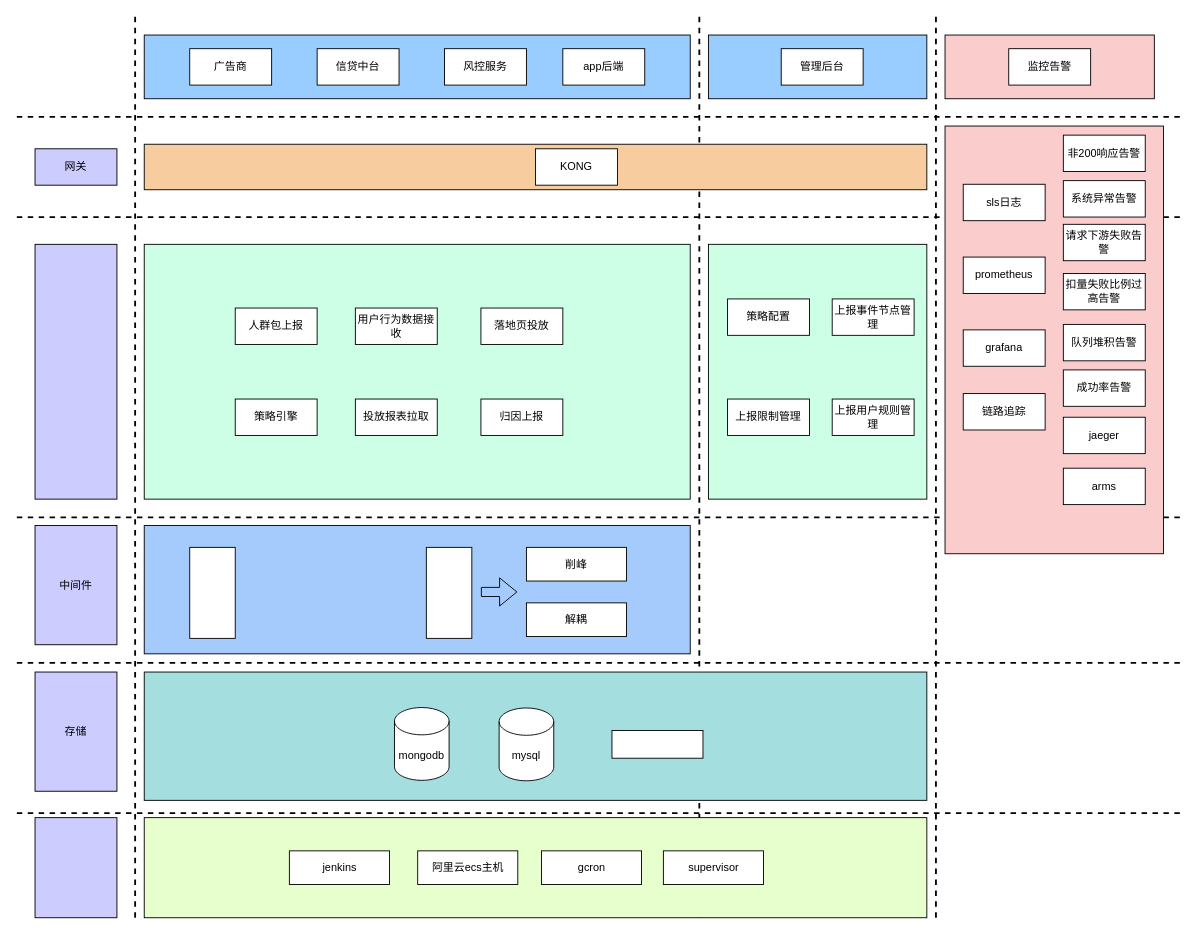
This 1198x935 diagram has some shape labels left out. Each missing label, with the centre of its shape:
CICD: (75,867)
rabbitmq: (448,592)
redis: (212,592)
信息流投放服务: (75,371)
按月分表: (657,744)
